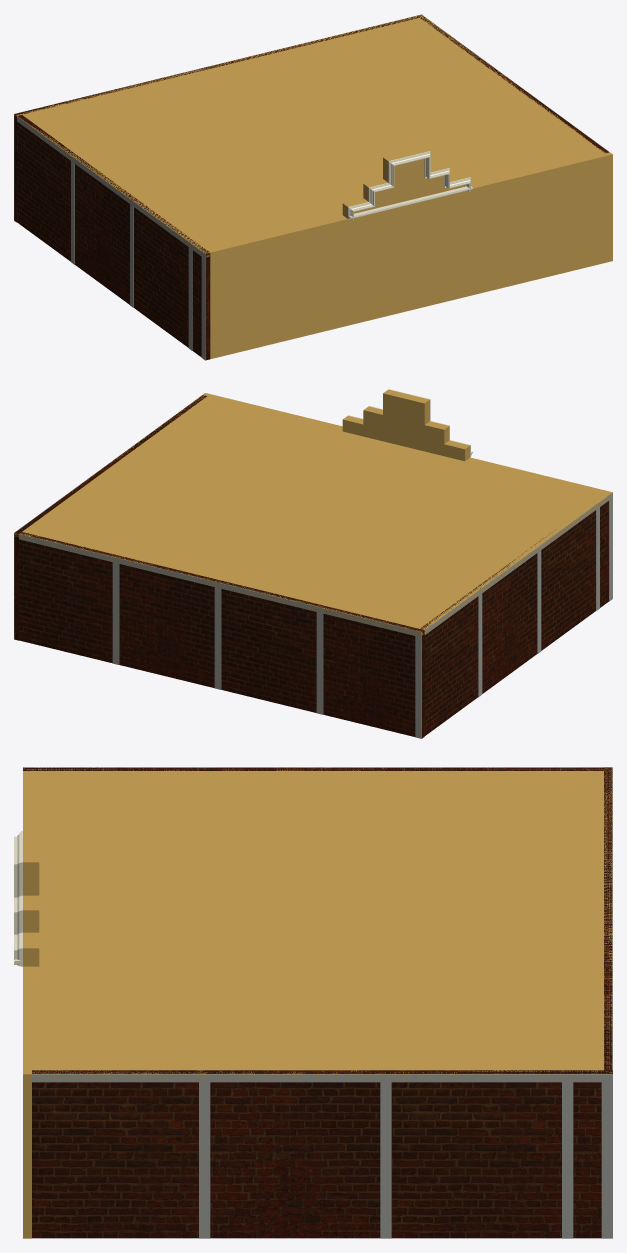
Rendered from building.glb.
3 renders of one model, top to bottom at view 1: azimuth 30°, elevation 25°; view 2: azimuth 150°, elevation 25°; view 3: azimuth 270°, elevation 25°, orthographic. The views are drawn at different scales.
Visible parts, largest first — view 1: roof/house:0/roof_slab#0001, house:0/edge0/z0/house:0/edge0/z0/wall_0_0, house:0/edge3/z0/house:0/edge3/z0/wall_0_0, crown/coronamiento/crown_body#0001, house:0/edge2/z0/house:0/edge2/z0/wall_0_0, crown/coronamiento/crown_moulding#0001, house:0/edge3/z0/house:0/edge3/z0/beam_0_0, house:0/edge1/z0/house:0/edge1/z0/wall_0_0, crown/coronamiento/crown_base_cornice#0001, house:0/edge3/z0/house:0/edge3/z0/column_1_0, house:0/edge3/z0/house:0/edge3/z0/column_4_0; view 2: roof/house:0/roof_slab#0001, house:0/edge2/z0/house:0/edge2/z0/wall_0_0, house:0/edge3/z0/house:0/edge3/z0/wall_0_0, crown/coronamiento/crown_body#0001, house:0/edge2/z0/house:0/edge2/z0/beam_0_0, house:0/edge1/z0/house:0/edge1/z0/wall_0_0, house:0/edge3/z0/house:0/edge3/z0/beam_0_0, house:0/edge2/z0/house:0/edge2/z0/column_2_0, house:0/edge2/z0/house:0/edge2/z0/column_3_0, house:0/edge2/z0/house:0/edge2/z0/column_4_0, house:0/edge0/z0/house:0/edge0/z0/wall_0_0, house:0/edge2/z0/house:0/edge2/z0/column_1_0 (+2 smaller); view 3: roof/house:0/roof_slab#0001, house:0/edge1/z0/house:0/edge1/z0/wall_0_0, house:0/edge1/z0/house:0/edge1/z0/beam_0_0, house:0/edge0/z0/house:0/edge0/z0/wall_0_0, house:0/edge2/z0/house:0/edge2/z0/wall_0_0, house:0/edge3/z0/house:0/edge3/z0/wall_0_0, crown/coronamiento/crown_body#0001, house:0/edge1/z0/house:0/edge1/z0/column_1_0, house:0/edge1/z0/house:0/edge1/z0/column_2_0, house:0/edge1/z0/house:0/edge1/z0/column_3_0, house:0/edge1/z0/house:0/edge1/z0/column_4_0, crown/coronamiento/crown_moulding#0001.
Boxes of the visible parts, left/top/right/bottom form: roof/house:0/roof_slab#0001: left=14, top=14, right=612, bottom=257; house:0/edge0/z0/house:0/edge0/z0/wall_0_0: left=208, top=152, right=612, bottom=359; house:0/edge3/z0/house:0/edge3/z0/wall_0_0: left=17, top=115, right=210, bottom=360; crown/coronamiento/crown_body#0001: left=342, top=147, right=468, bottom=217; house:0/edge2/z0/house:0/edge2/z0/wall_0_0: left=14, top=16, right=418, bottom=222; crown/coronamiento/crown_moulding#0001: left=348, top=151, right=470, bottom=220; house:0/edge3/z0/house:0/edge3/z0/beam_0_0: left=17, top=116, right=205, bottom=259; house:0/edge1/z0/house:0/edge1/z0/wall_0_0: left=417, top=14, right=608, bottom=153; crown/coronamiento/crown_base_cornice#0001: left=348, top=186, right=473, bottom=219; house:0/edge3/z0/house:0/edge3/z0/column_1_0: left=201, top=257, right=205, bottom=360; house:0/edge3/z0/house:0/edge3/z0/column_4_0: left=188, top=247, right=192, bottom=350; roof/house:0/roof_slab#0001: left=14, top=393, right=612, bottom=635; house:0/edge2/z0/house:0/edge2/z0/wall_0_0: left=19, top=532, right=424, bottom=738; house:0/edge3/z0/house:0/edge3/z0/wall_0_0: left=420, top=501, right=608, bottom=735; crown/coronamiento/crown_body#0001: left=342, top=390, right=469, bottom=461; house:0/edge2/z0/house:0/edge2/z0/beam_0_0: left=19, top=534, right=421, bottom=637; house:0/edge1/z0/house:0/edge1/z0/wall_0_0: left=14, top=395, right=206, bottom=640; house:0/edge3/z0/house:0/edge3/z0/beam_0_0: left=424, top=492, right=612, bottom=634; house:0/edge2/z0/house:0/edge2/z0/column_2_0: left=112, top=562, right=119, bottom=664; house:0/edge2/z0/house:0/edge2/z0/column_3_0: left=214, top=587, right=221, bottom=689; house:0/edge2/z0/house:0/edge2/z0/column_4_0: left=316, top=612, right=323, bottom=714; house:0/edge0/z0/house:0/edge0/z0/wall_0_0: left=203, top=393, right=605, bottom=492; house:0/edge2/z0/house:0/edge2/z0/column_1_0: left=415, top=636, right=421, bottom=738; roof/house:0/roof_slab#0001: left=23, top=767, right=612, bottom=1079; house:0/edge1/z0/house:0/edge1/z0/wall_0_0: left=32, top=1070, right=612, bottom=1238; house:0/edge1/z0/house:0/edge1/z0/beam_0_0: left=32, top=1074, right=612, bottom=1082; house:0/edge0/z0/house:0/edge0/z0/wall_0_0: left=23, top=771, right=31, bottom=1238; house:0/edge2/z0/house:0/edge2/z0/wall_0_0: left=604, top=767, right=612, bottom=1070; house:0/edge3/z0/house:0/edge3/z0/wall_0_0: left=23, top=767, right=603, bottom=770; crown/coronamiento/crown_body#0001: left=25, top=831, right=39, bottom=966; house:0/edge1/z0/house:0/edge1/z0/column_1_0: left=601, top=1082, right=612, bottom=1238; house:0/edge1/z0/house:0/edge1/z0/column_2_0: left=199, top=1082, right=210, bottom=1238; house:0/edge1/z0/house:0/edge1/z0/column_3_0: left=380, top=1082, right=391, bottom=1238; house:0/edge1/z0/house:0/edge1/z0/column_4_0: left=562, top=1082, right=573, bottom=1238; crown/coronamiento/crown_moulding#0001: left=14, top=831, right=22, bottom=966.
Bounding box in the file's own units: 16 × 5.8 × 13.2.
Materials: 4 (1 with a texture image).
